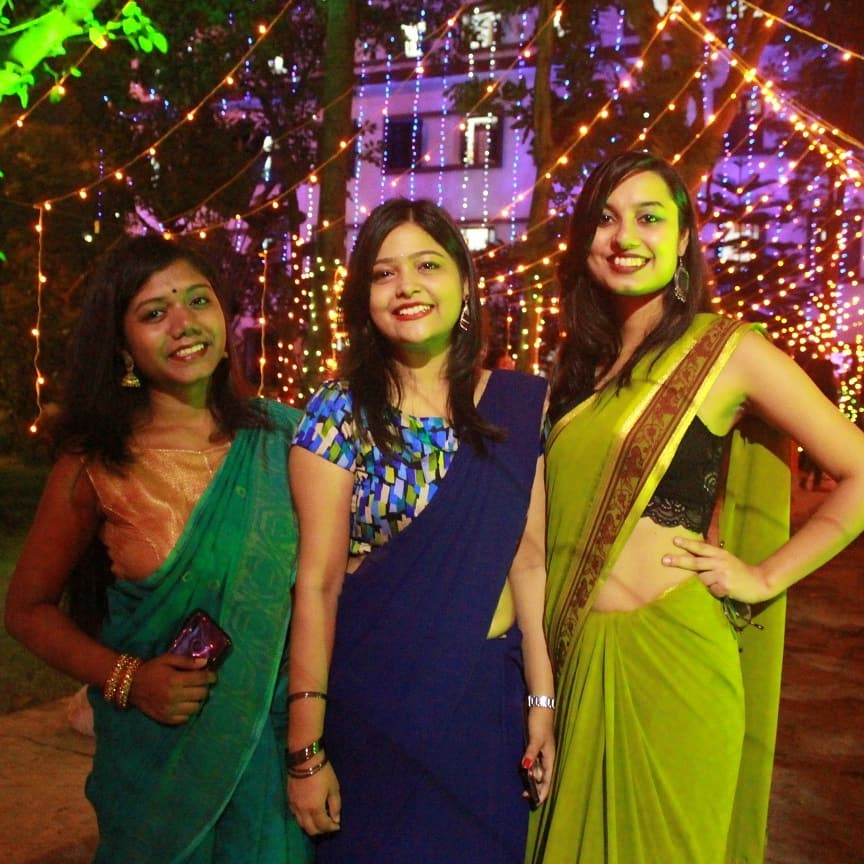person: (549, 145, 830, 859), (305, 187, 549, 851), (39, 218, 294, 842)
